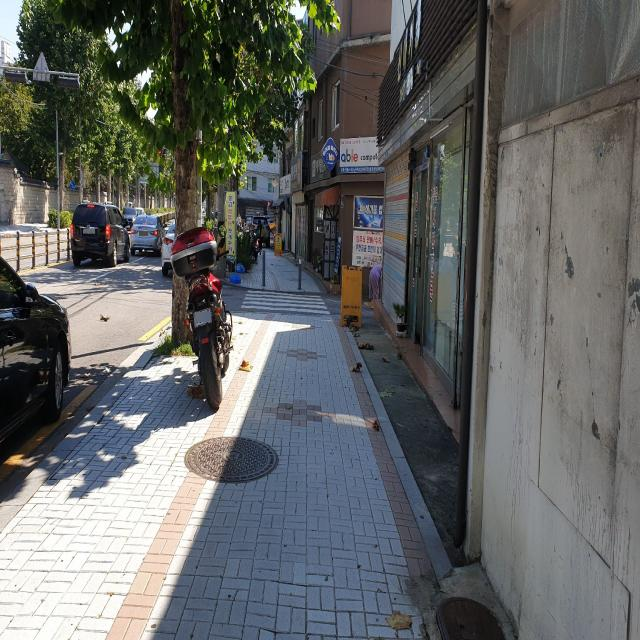횡단보도: (240, 290, 331, 316)
